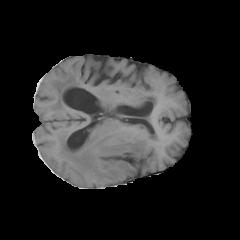glioma: (55, 122, 162, 182)
